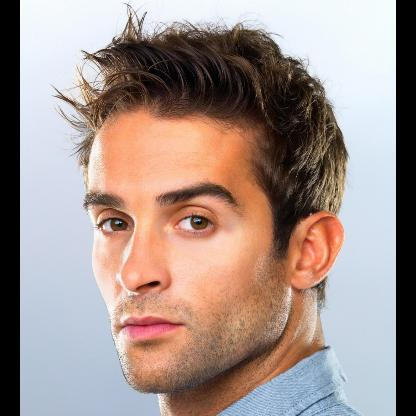Male: (90, 105, 342, 391)
